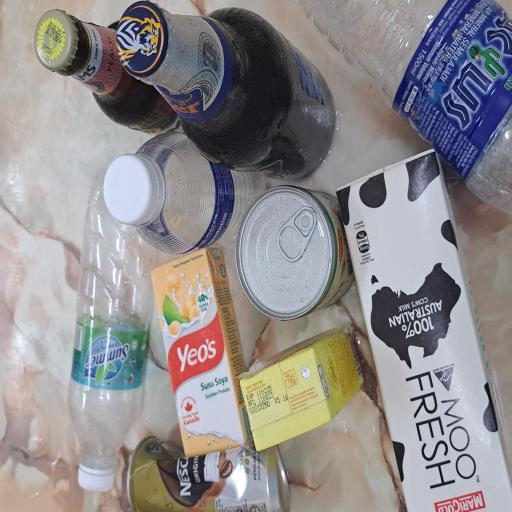can: (142, 313, 248, 472), (0, 169, 57, 388)
drink carton: (40, 201, 198, 336), (0, 447, 274, 512), (46, 319, 137, 488)
glass bottle: (245, 154, 384, 447), (283, 44, 377, 247)
plastic bottle: (15, 93, 258, 202), (218, 396, 383, 512), (194, 177, 288, 363)
plastic bottle cap: (216, 139, 269, 212), (17, 102, 36, 154)
pop tab: (186, 368, 230, 422)
